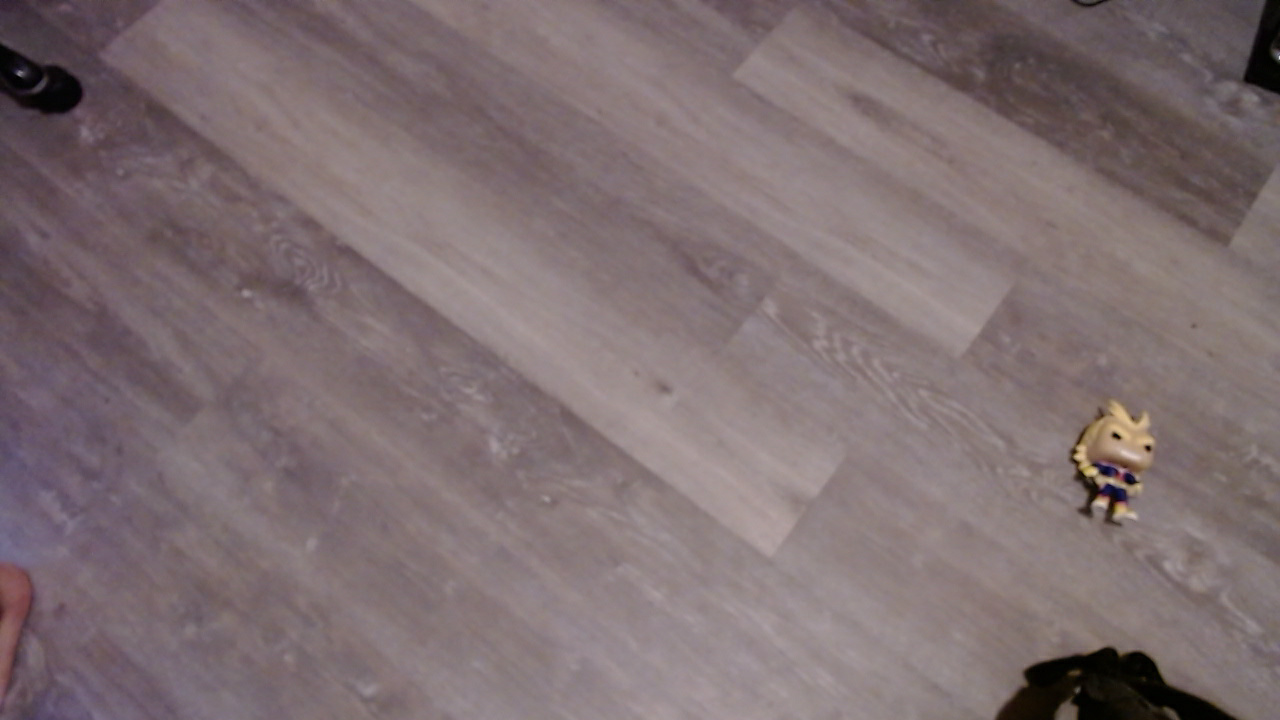all_might: (1067, 404, 1164, 535)
